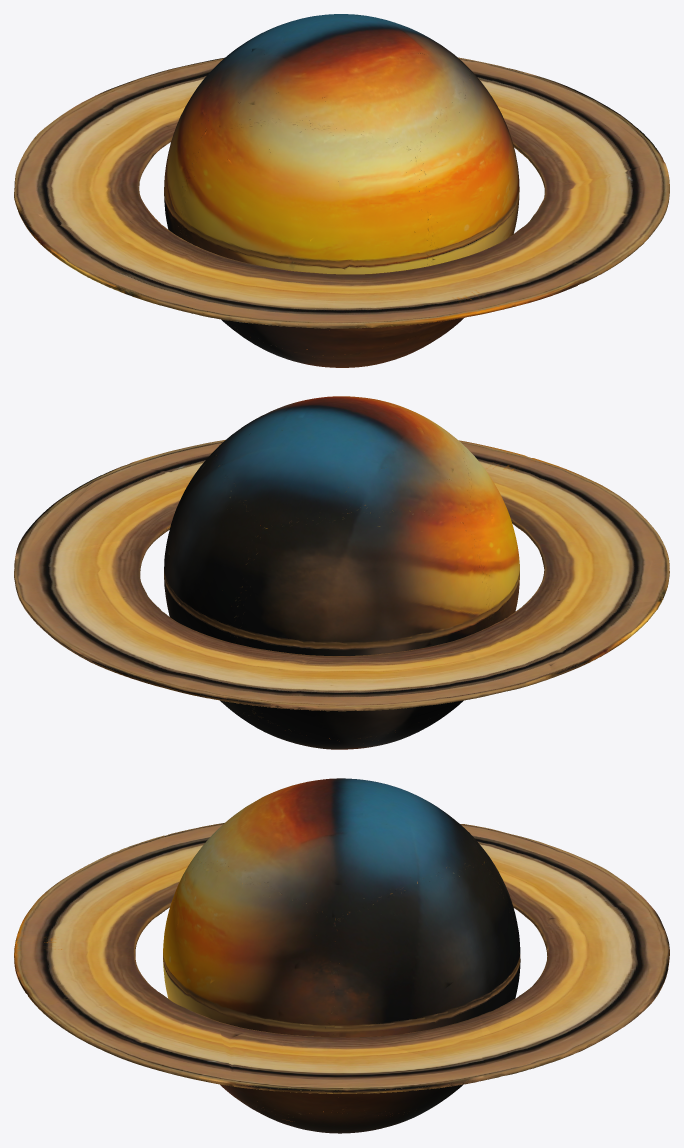
The model's file is Saturn(Draco).glb.
3 views of the same model, one above another, from view 1: azimuth 30°, elevation 25°; view 2: azimuth 150°, elevation 25°; view 3: azimuth 270°, elevation 25° (orthographic).
Visible parts, largest first — view 1: Mesh_0.005; view 2: Mesh_0.005; view 3: Mesh_0.005.
Boxes of the visible parts, x1,y1,x2,y2 form: Mesh_0.005: (14, 14, 669, 367); Mesh_0.005: (14, 396, 669, 749); Mesh_0.005: (14, 778, 669, 1133).
Bounding box in the file's own units: 2 × 1.08 × 2.
1 material, 1 textured.
